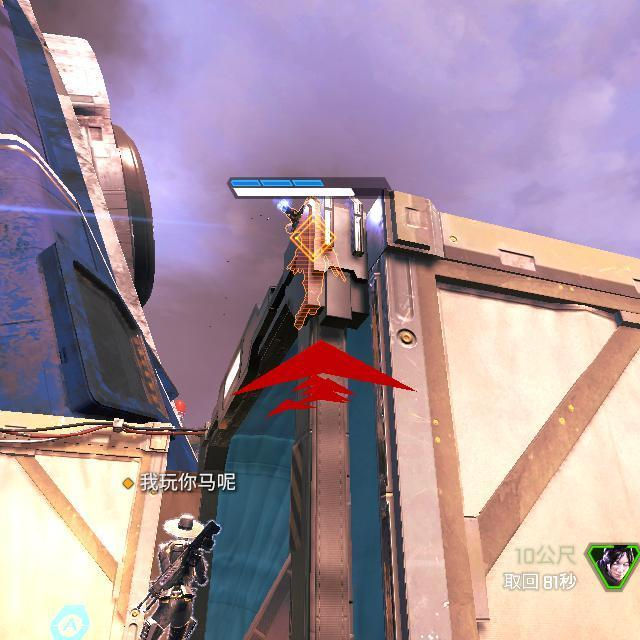avatar: (139, 512, 221, 640)
object: (289, 212, 339, 263)
